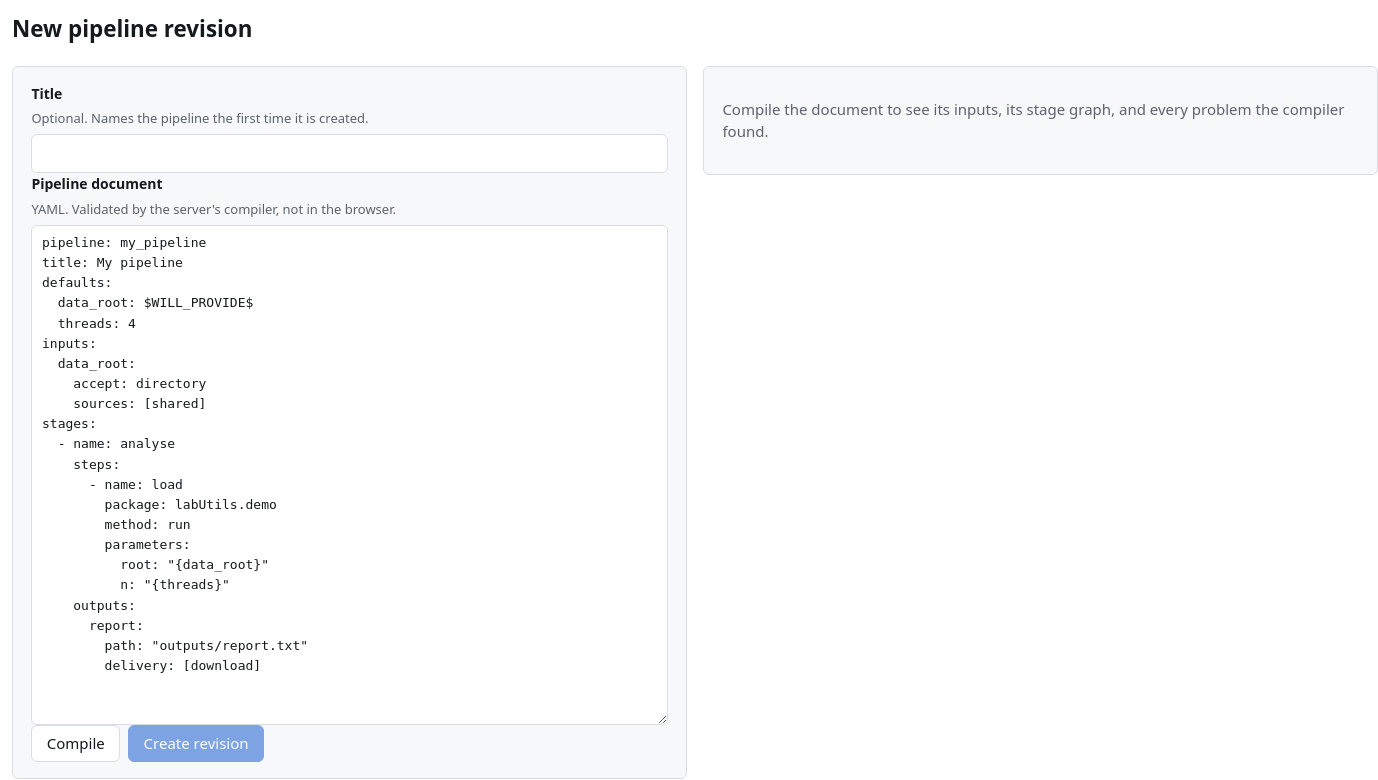
Test case: compiling before storing › shows the input contract and the stage graph once it compiles
This screenshot has width=1378, height=780.
Click the button "Compile". click: (76, 743)
box: [31,725,120,762]
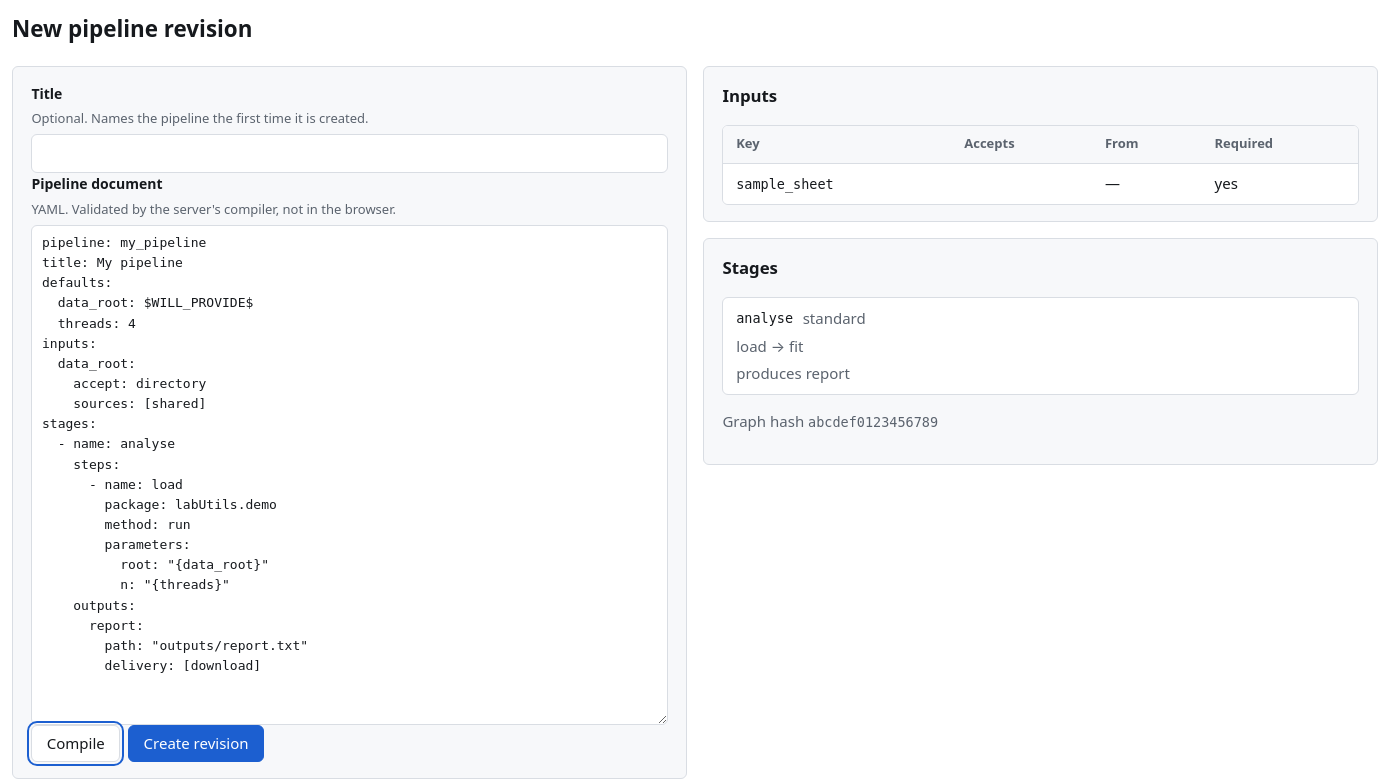
Now the text "sample_sheet" is shown, box [736,176,834,192]
Now the text "load → fit" is shown, box [736,336,803,356]
Now the button "Create revision" is enabled, box [128,725,264,762]
